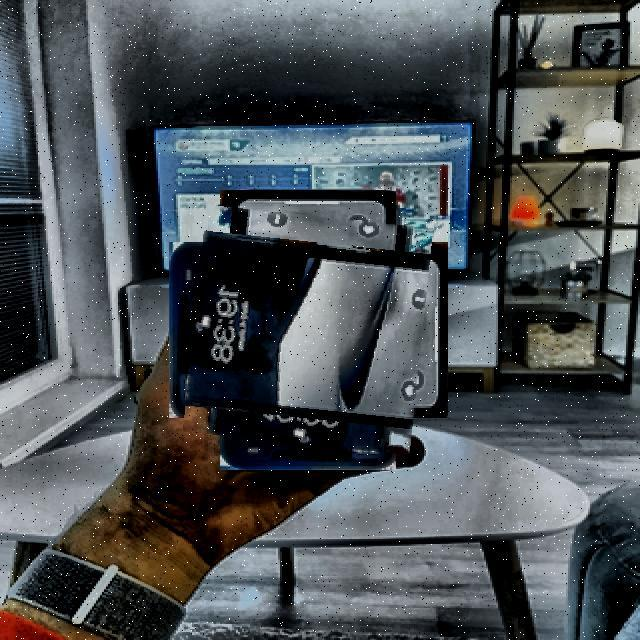Phone: (188, 211, 428, 450)
